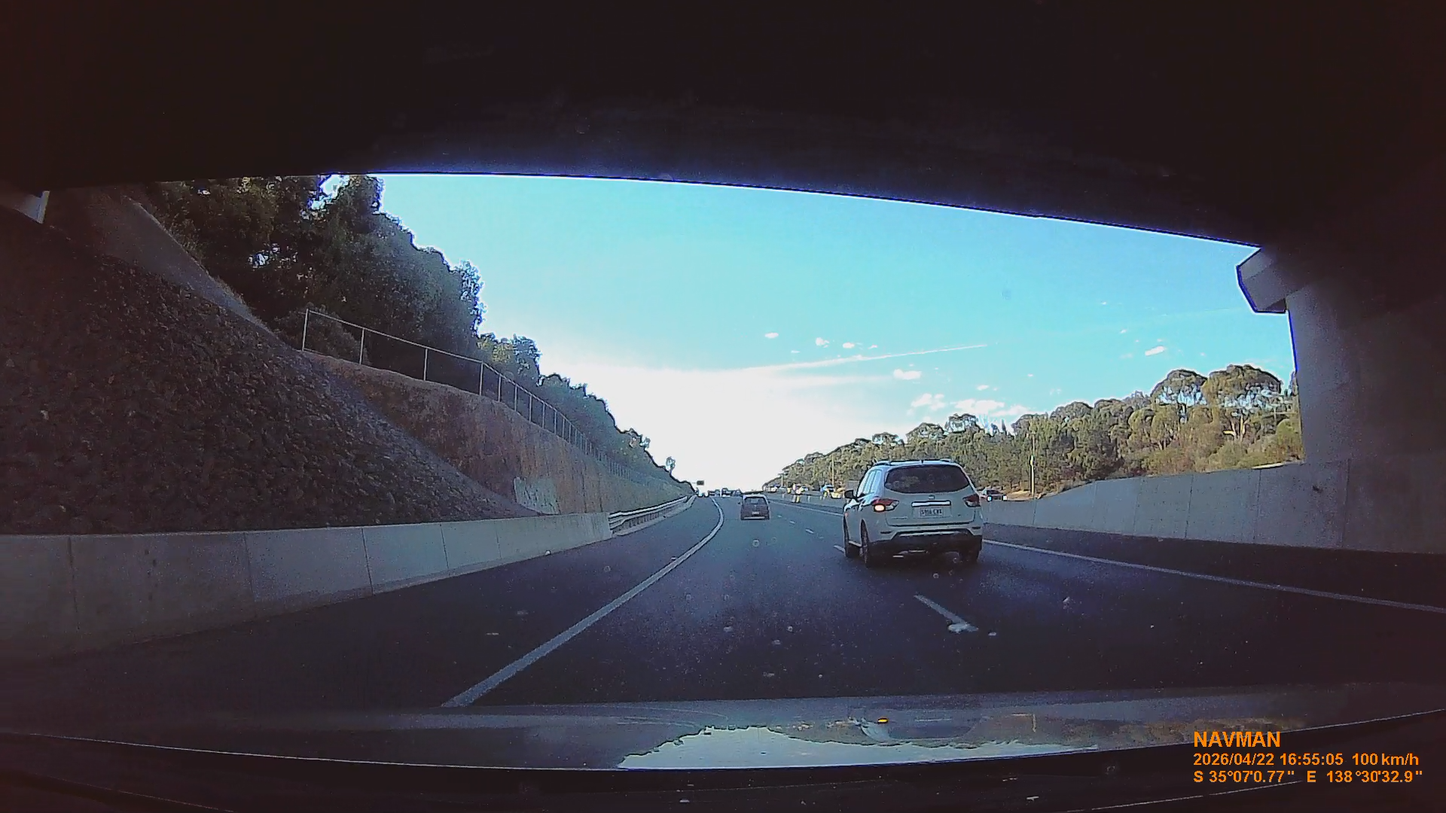fences: (297, 312, 587, 446)
road barriers: (986, 451, 1445, 553)
